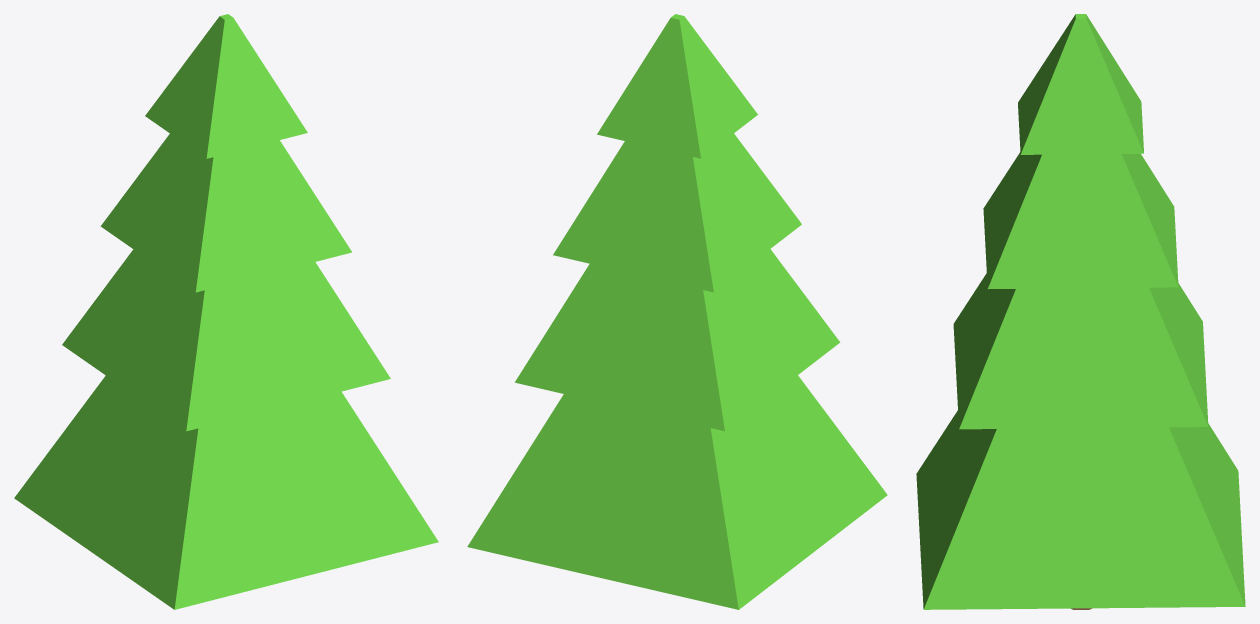
The model's file is PineTree.fbx.
The picture shows the model from 3 angles, left to right: view 1: azimuth 30°, elevation 25°; view 2: azimuth 150°, elevation 25°; view 3: azimuth 270°, elevation 25°; orthographic projection. The views are drawn at different scales.
Parts seen in each view (by area): view 1: TreeLeaves; view 2: TreeLeaves; view 3: TreeLeaves.
Part boxes in pixels (left/top/right/bottom): TreeLeaves: left=14, top=14, right=438, bottom=609; TreeLeaves: left=467, top=14, right=887, bottom=609; TreeLeaves: left=916, top=14, right=1245, bottom=609.
Size of the model in its own units: 533 by 1038 by 533.
